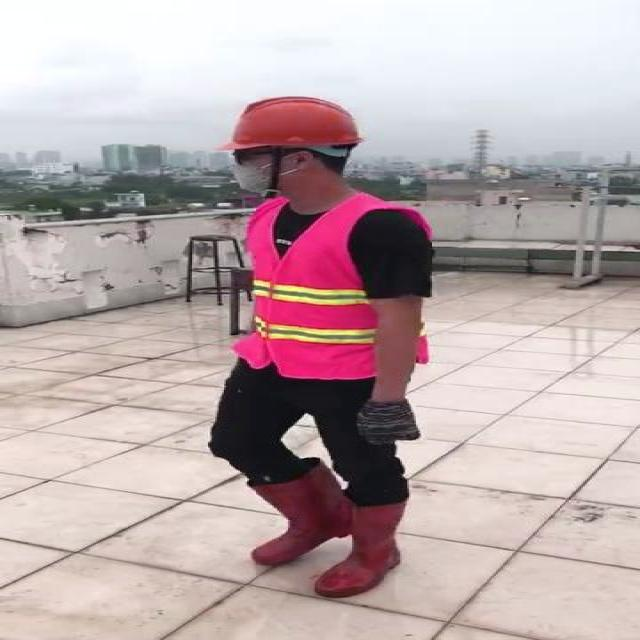boots: (252, 457, 348, 565), (315, 499, 405, 598)
face_mask: (226, 146, 293, 194)
hand_glove: (356, 398, 420, 445)
head_helmet: (225, 91, 363, 155)
person: (196, 86, 452, 594)
vest: (233, 198, 437, 380)
